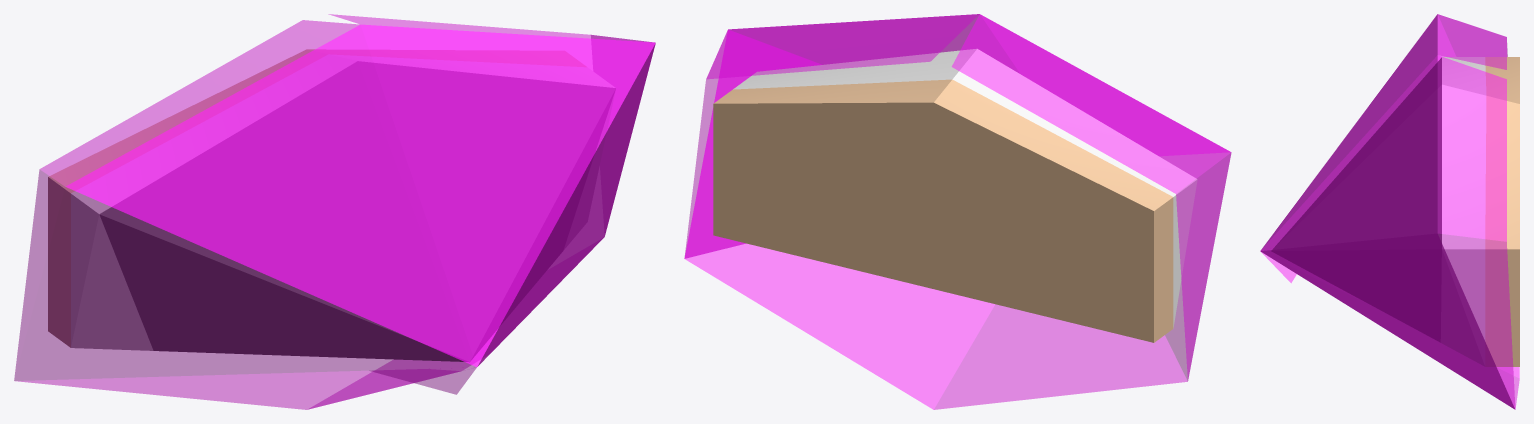
File: Delta_Ultralight_tent6a.glb
The picture shows the model from 3 angles, left to right: view 1: azimuth 30°, elevation 25°; view 2: azimuth 150°, elevation 25°; view 3: azimuth 270°, elevation 25°; orthographic projection. The views are drawn at different scales.
Parts seen in each view (by area): view 1: K20 - hexamid.stp-1/Delta_Copy (2) of outerk20.stp.stp-1, K20 - hexamid.stp-1/Delta_Copy (3) of innerk20.stp.stp-1; view 2: K20 - hexamid.stp-1/Delta_Copy (3) of innerk20.stp.stp-1, K20 - hexamid.stp-1/Delta_Copy (2) of outerk20.stp.stp-1; view 3: K20 - hexamid.stp-1/Delta_Copy (2) of outerk20.stp.stp-1, K20 - hexamid.stp-1/Delta_Copy (3) of innerk20.stp.stp-1.
Boxes of the visible parts, bbox=[...] form: K20 - hexamid.stp-1/Delta_Copy (2) of outerk20.stp.stp-1: bbox=[14, 14, 655, 409]; K20 - hexamid.stp-1/Delta_Copy (3) of innerk20.stp.stp-1: bbox=[48, 49, 615, 361]; K20 - hexamid.stp-1/Delta_Copy (3) of innerk20.stp.stp-1: bbox=[713, 49, 1197, 342]; K20 - hexamid.stp-1/Delta_Copy (2) of outerk20.stp.stp-1: bbox=[684, 14, 1231, 409]; K20 - hexamid.stp-1/Delta_Copy (2) of outerk20.stp.stp-1: bbox=[1260, 14, 1519, 409]; K20 - hexamid.stp-1/Delta_Copy (3) of innerk20.stp.stp-1: bbox=[1272, 57, 1519, 366].
Bounding box in the file's own units: 2.4 × 1.65 × 1.2.
